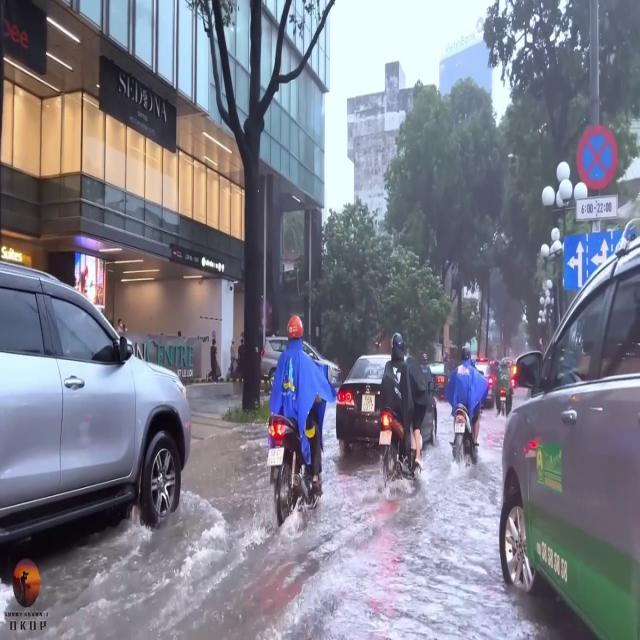bien_trang: (266, 446, 284, 467)
